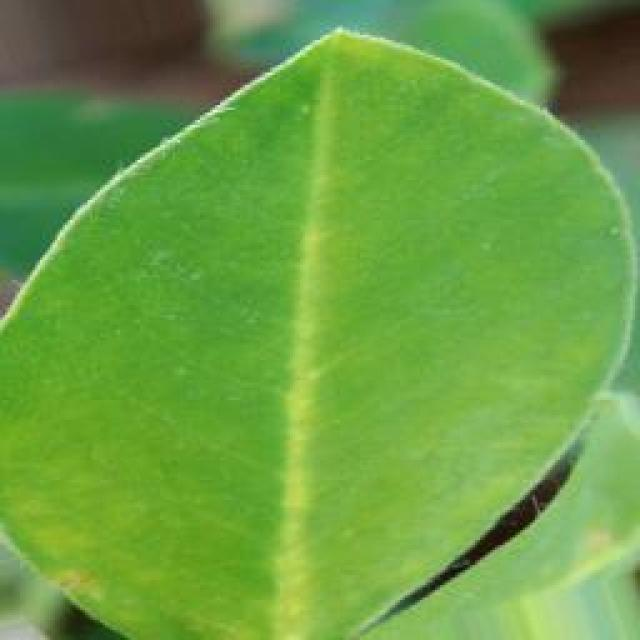Yellow_and_black_sigatoka: (0, 32, 640, 638)
